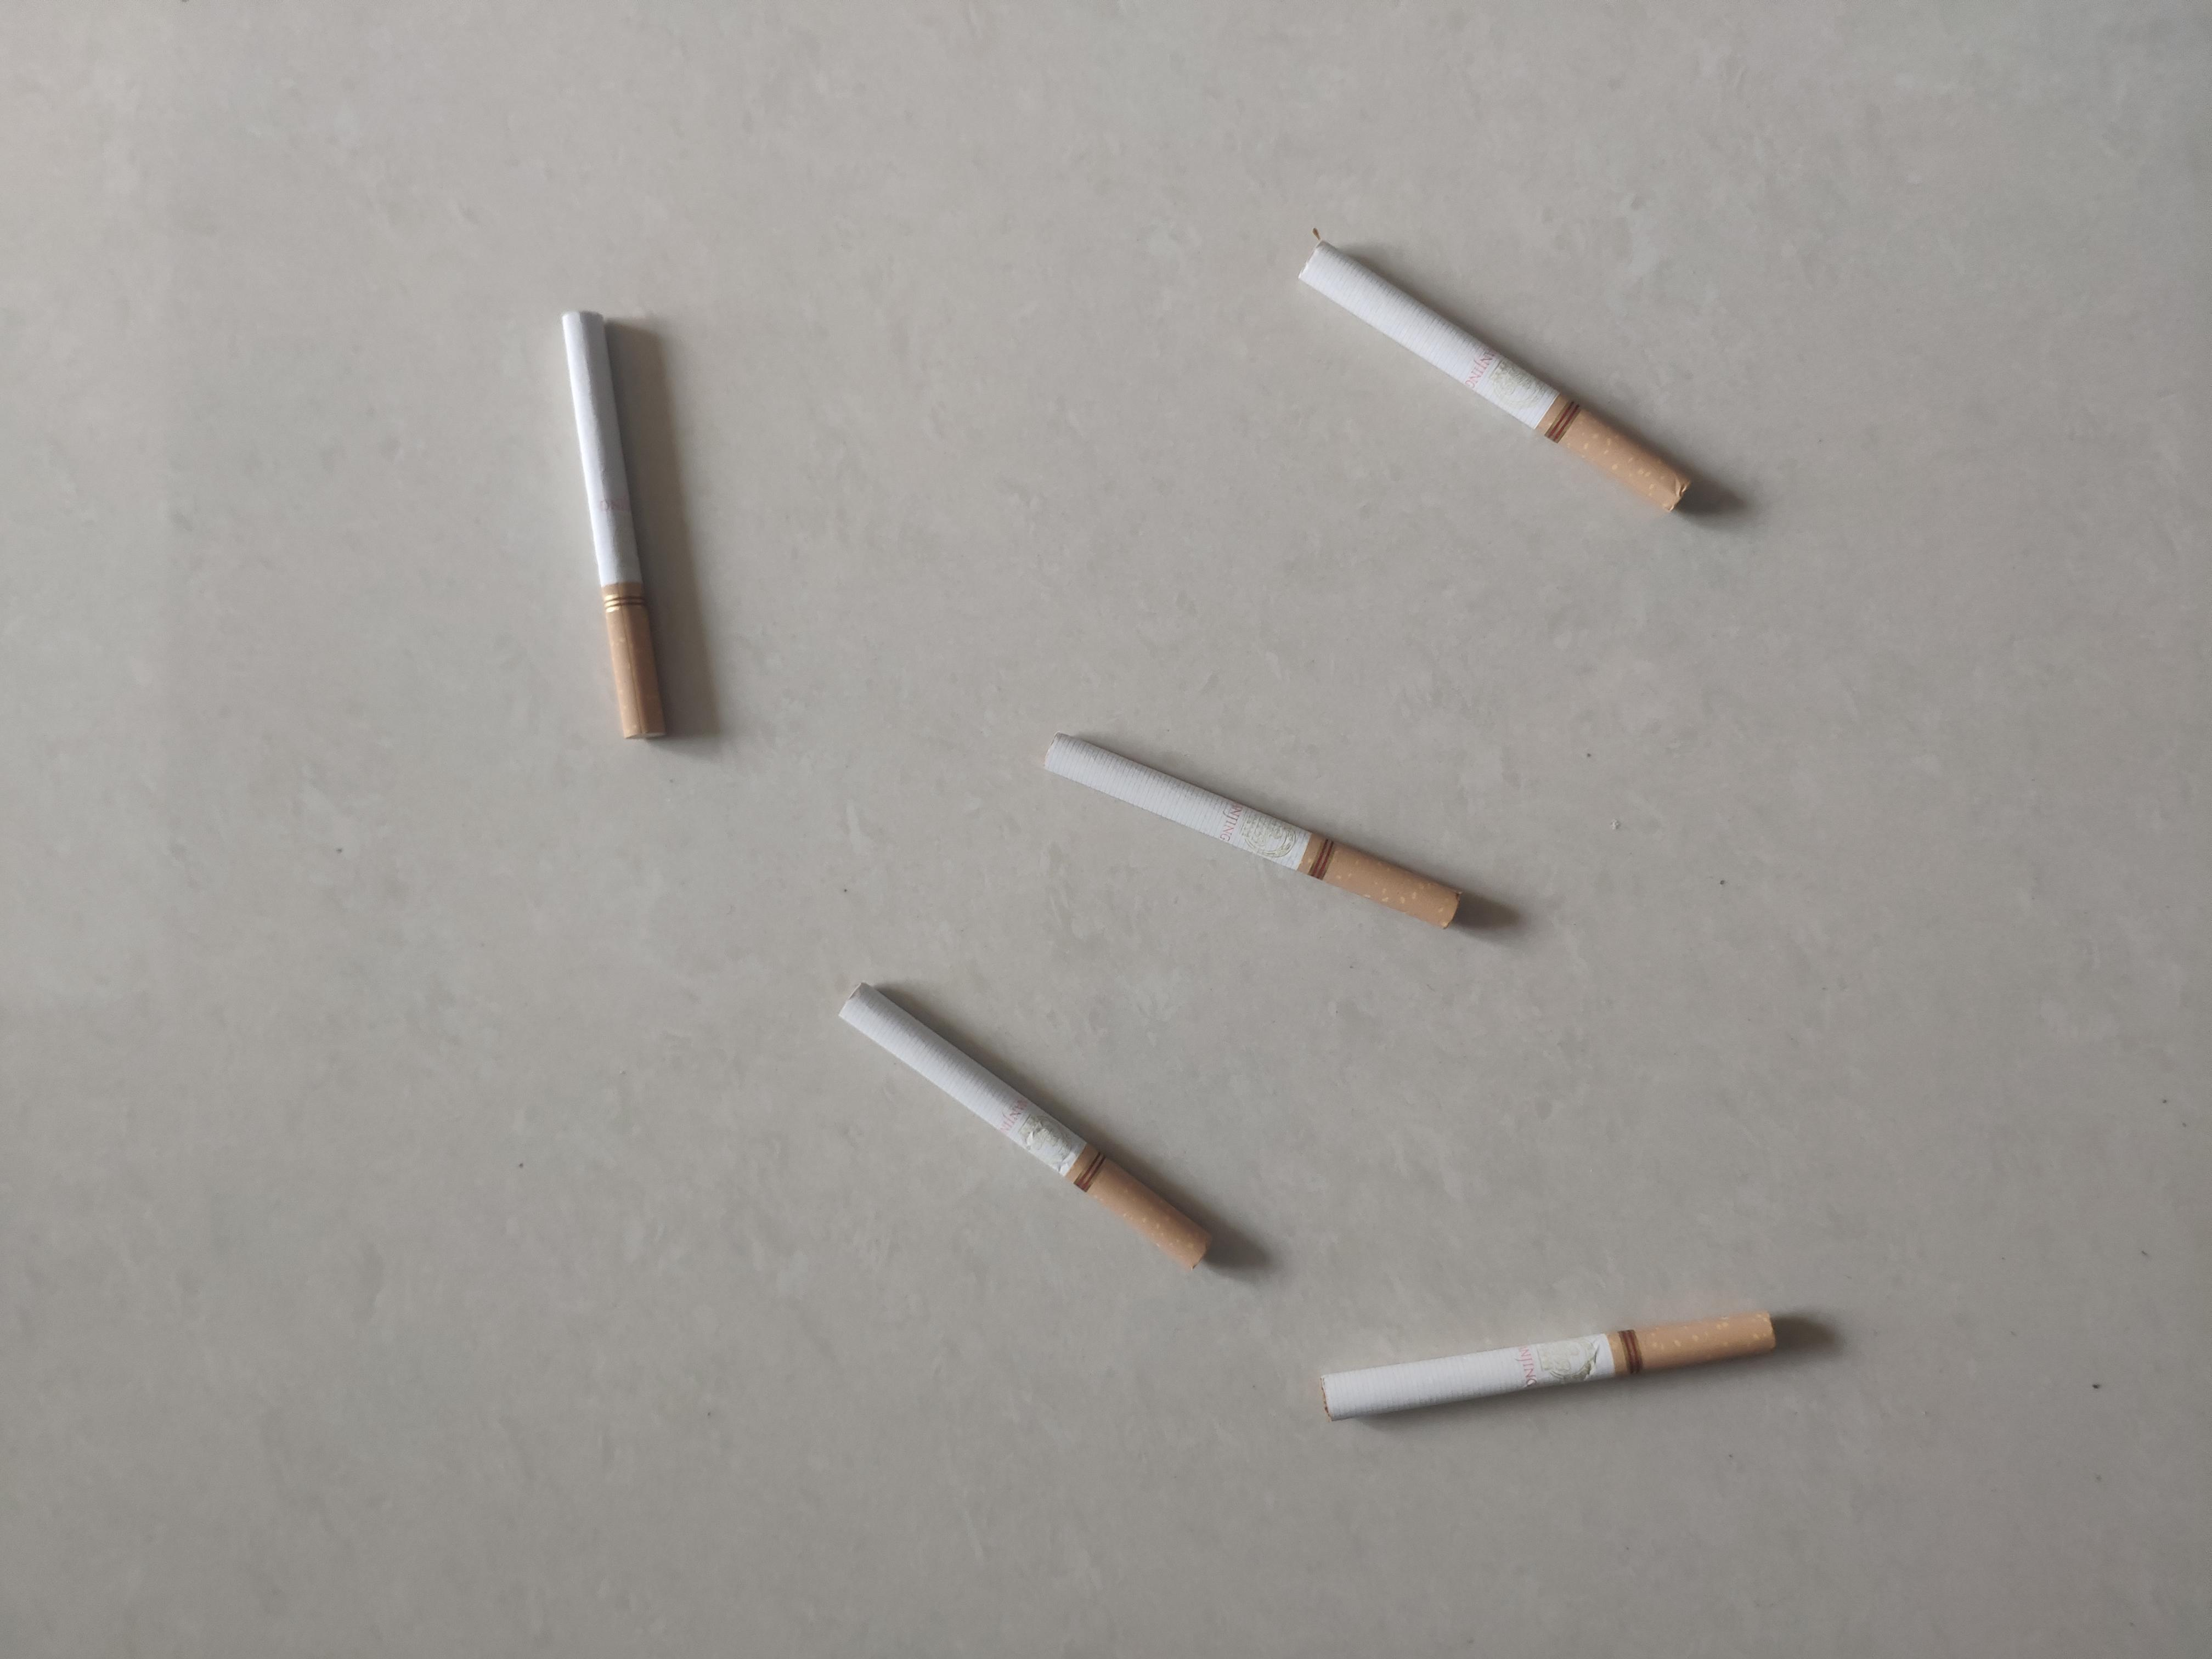smoke: (1001, 383, 1381, 678), (524, 1150, 923, 1419), (749, 732, 1172, 931), (432, 234, 900, 354), (1550, 922, 1658, 1356)
